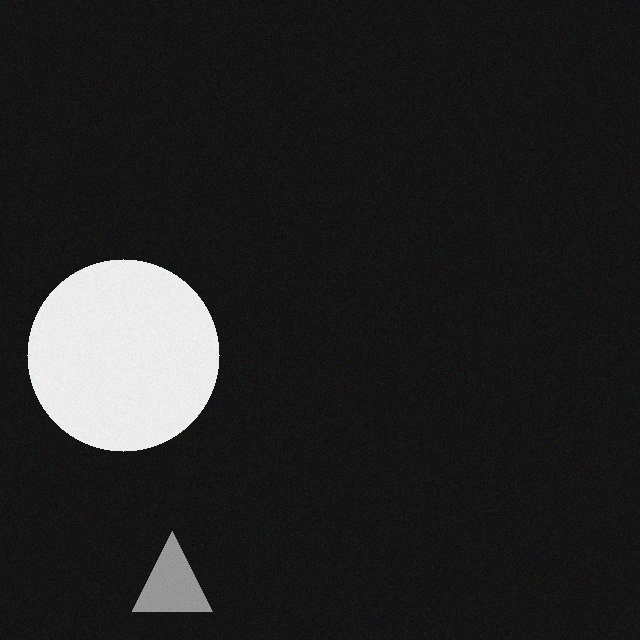circle: (40, 267, 232, 459)
triangle: (145, 539, 225, 619)
